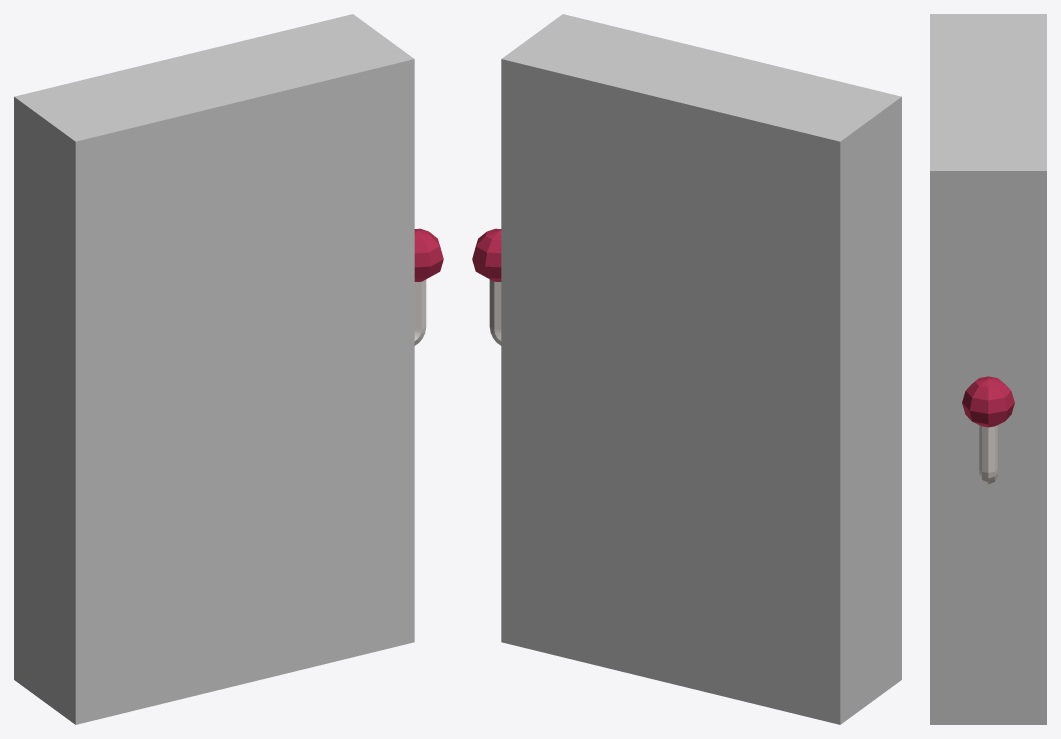
File: Vending Machine.fbx
3 renders of one model, left to right at view 1: azimuth 30°, elevation 25°; view 2: azimuth 150°, elevation 25°; view 3: azimuth 270°, elevation 25°, orthographic. The views are drawn at different scales.
Parts seen in each view (by area): view 1: Cube, Sphere; view 2: Cube, Sphere; view 3: Cube, Sphere.
Part boxes in pixels (left/top/right/bottom): Cube: left=14, top=14, right=414, bottom=724; Sphere: left=414, top=228, right=443, bottom=345; Cube: left=501, top=14, right=901, bottom=724; Sphere: left=472, top=228, right=501, bottom=345; Cube: left=930, top=14, right=1046, bottom=724; Sphere: left=962, top=376, right=1014, bottom=484.
Bounding box in the file's own units: 3.96 × 5.58 × 1.07.
